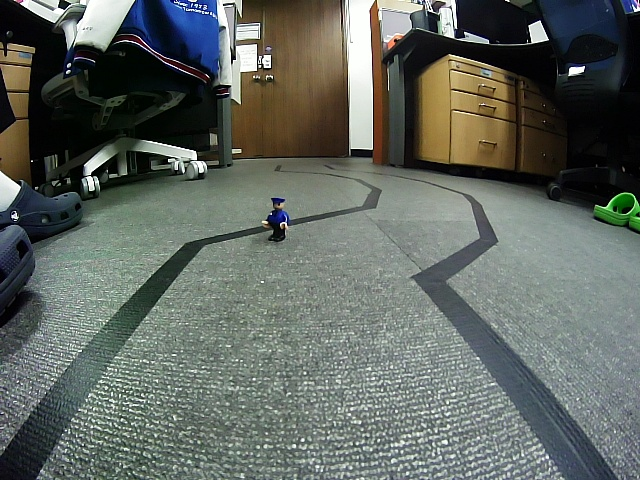person: (260, 197, 290, 241)
